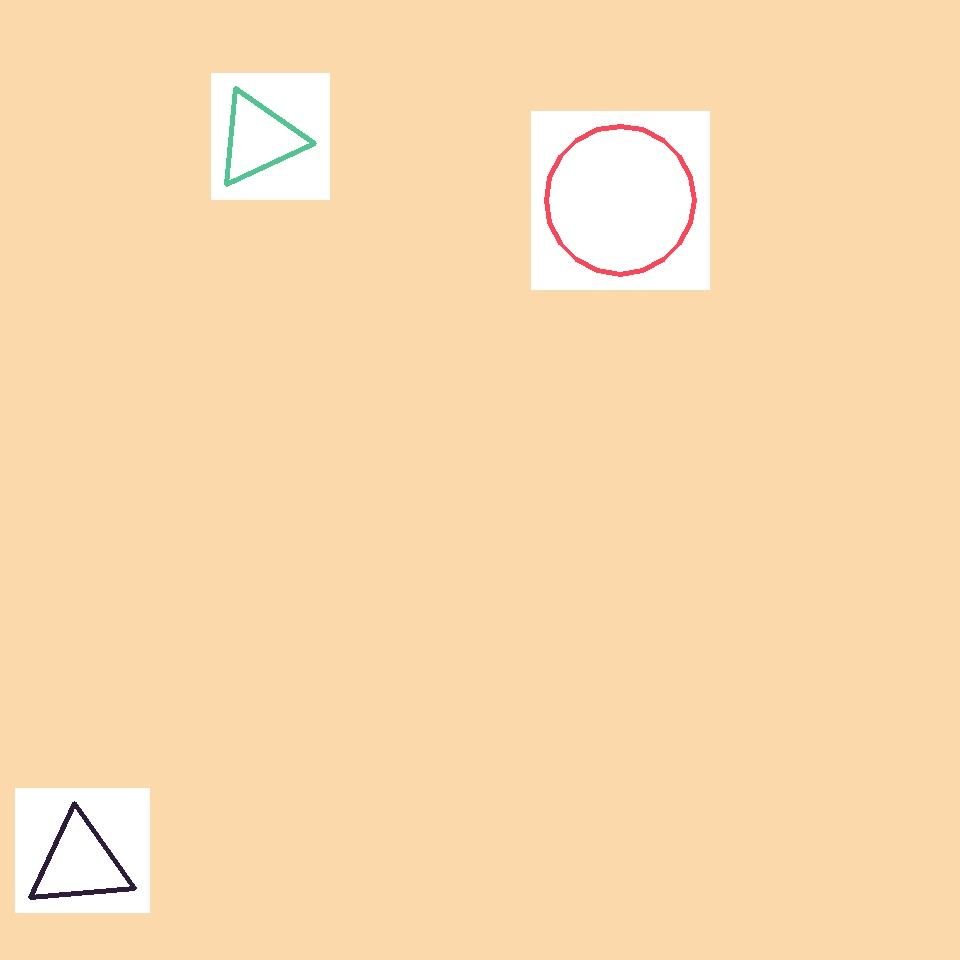circle: (28, 816, 132, 910), (215, 91, 303, 187), (604, 573, 692, 655)
square: (652, 222, 908, 478)
triangle: (546, 126, 694, 274)
